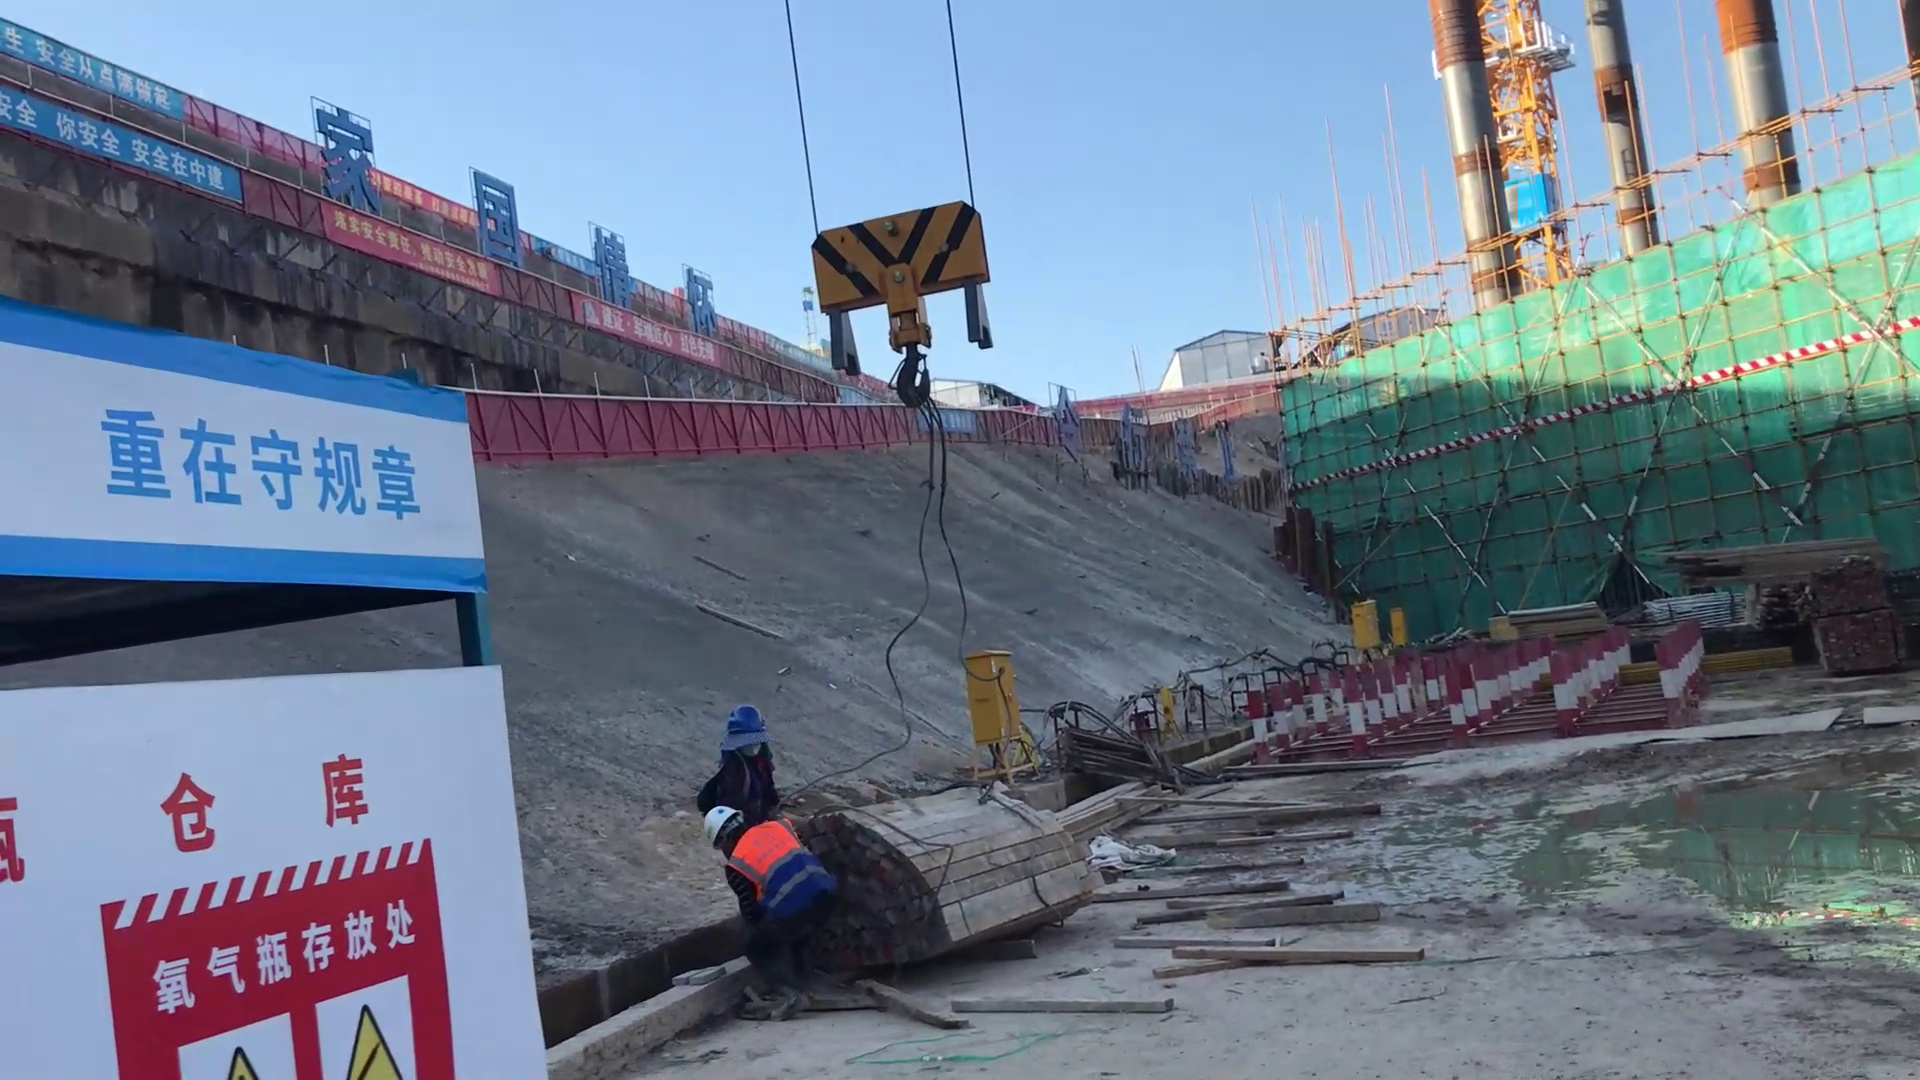ebox: (968, 651, 1015, 749), (1348, 598, 1378, 655), (1383, 606, 1404, 645)
fence: (471, 393, 808, 457), (804, 404, 910, 441)
helmet: (703, 803, 749, 858), (718, 705, 766, 755)
hook: (808, 198, 993, 378)
person: (693, 807, 853, 980), (684, 695, 799, 806)
slogan: (54, 394, 443, 530), (138, 974, 422, 1080), (1, 83, 256, 197), (267, 192, 485, 316), (1, 21, 189, 133)
vest: (741, 829, 814, 916)
wood: (1130, 744, 1410, 1002), (851, 770, 1110, 990), (1648, 535, 1882, 592)
